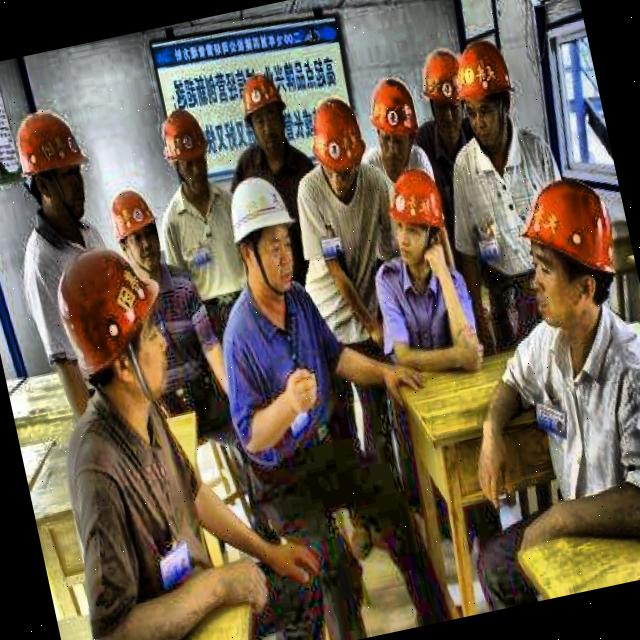helmet: (44, 234, 184, 413), (508, 170, 636, 342), (2, 96, 106, 242), (219, 170, 312, 306), (447, 34, 530, 154), (300, 90, 374, 198), (381, 165, 458, 268), (360, 68, 430, 181), (414, 39, 480, 150), (153, 95, 220, 203), (238, 64, 300, 161), (104, 188, 169, 280)
